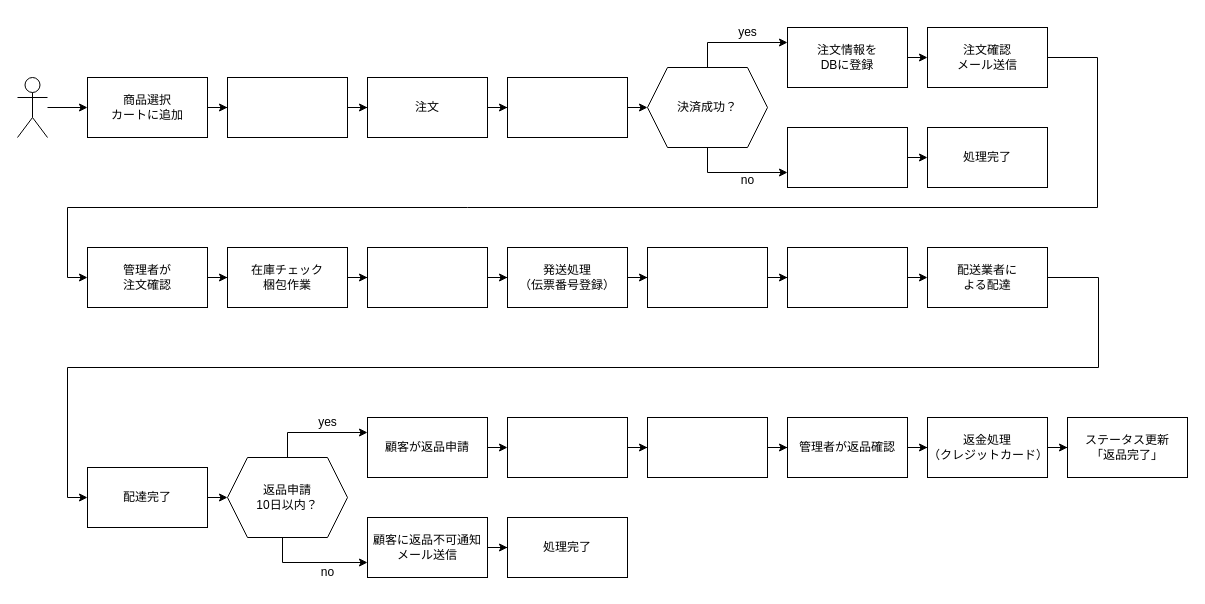
This 1205x604 diagram has some shape labels left out. Here are the shapes that lost their labels. From the top down, the centre of each, then its label:
the point at 32,107: 顧客
the point at 287,107: 配送情報入力
the point at 567,107: 支払い実行 （クレジットカード）
the point at 847,157: エラーメッセージ 表示
the point at 427,277: ステータス更新 「出荷準備中」
the point at 707,277: ステータス更新 「発送済み」
the point at 847,277: 顧客に発送完了 メール送信
the point at 567,447: 管理者が返品受付
the point at 707,447: 顧客が商品返送 （送料負担）
